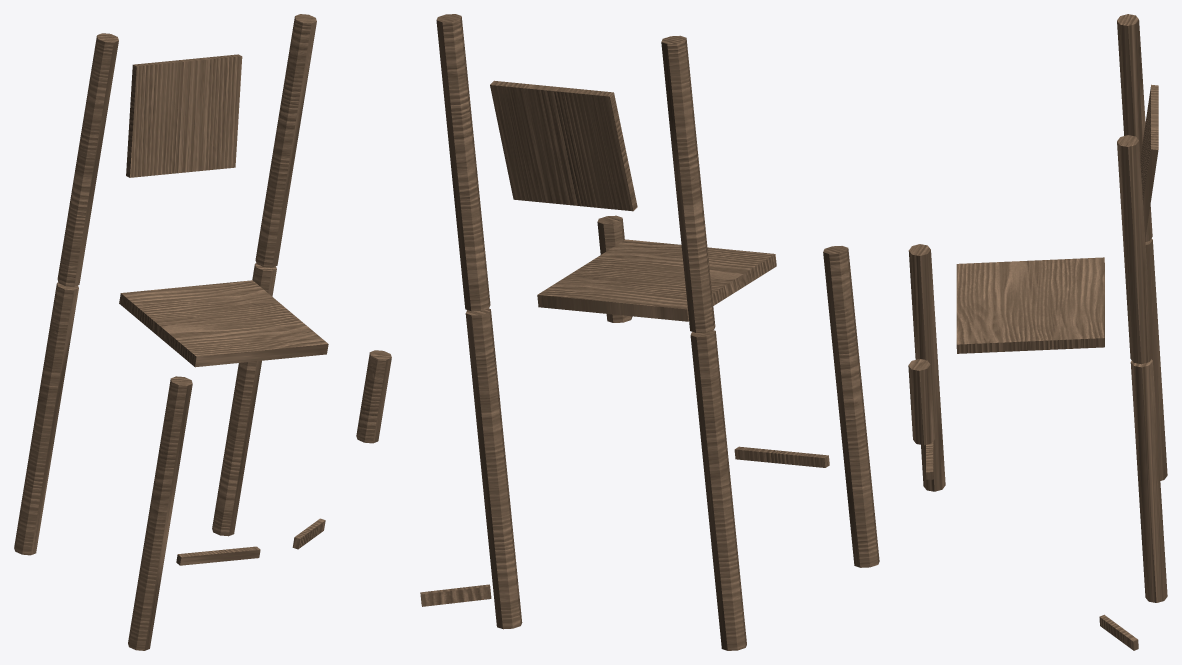
Rendered from broken_chair.fbx.
3 views of the same model, side by side, from view 1: azimuth 30°, elevation 25°; view 2: azimuth 150°, elevation 25°; view 3: azimuth 270°, elevation 25° (orthographic). The views are drawn at different scales.
Visible parts, largest first — view 1: broken_chair; view 2: broken_chair; view 3: broken_chair.
Part boxes in pixels (box(x1,y1,x2,y2)): broken_chair: box(14, 14, 391, 650); broken_chair: box(420, 14, 879, 650); broken_chair: box(908, 14, 1167, 650).
Size of the model in its own units: 0.4501 by 0.7886 by 0.35.
1 material, 1 textured.
